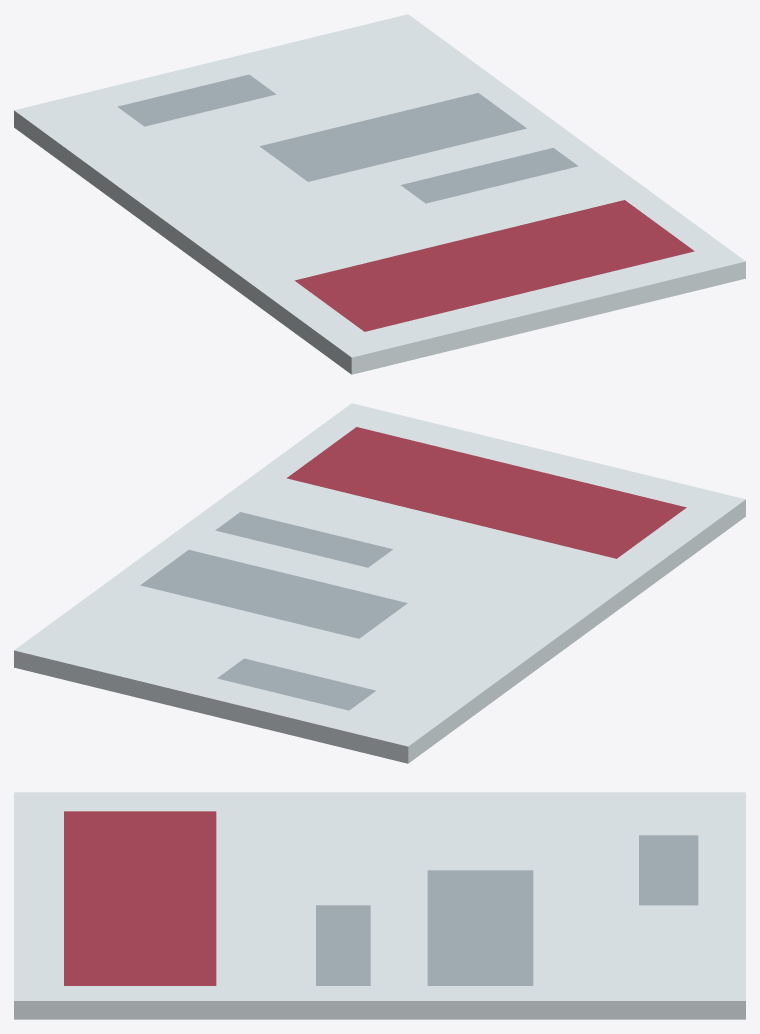
Rendered from Theftable_Paper02.fbx.
The picture shows the model from 3 angles, top to bottom: view 1: azimuth 30°, elevation 25°; view 2: azimuth 150°, elevation 25°; view 3: azimuth 270°, elevation 25°; orthographic projection. The views are drawn at different scales.
Visible parts, largest first — view 1: Cube.298; view 2: Cube.298; view 3: Cube.298.
Boxes of the visible parts, left/top/right/bottom form: Cube.298: left=14, top=14, right=745, bottom=374; Cube.298: left=14, top=403, right=745, bottom=763; Cube.298: left=14, top=792, right=745, bottom=1019.
Bounding box in the file's own units: 24.83 × 1.03 × 36.86.
